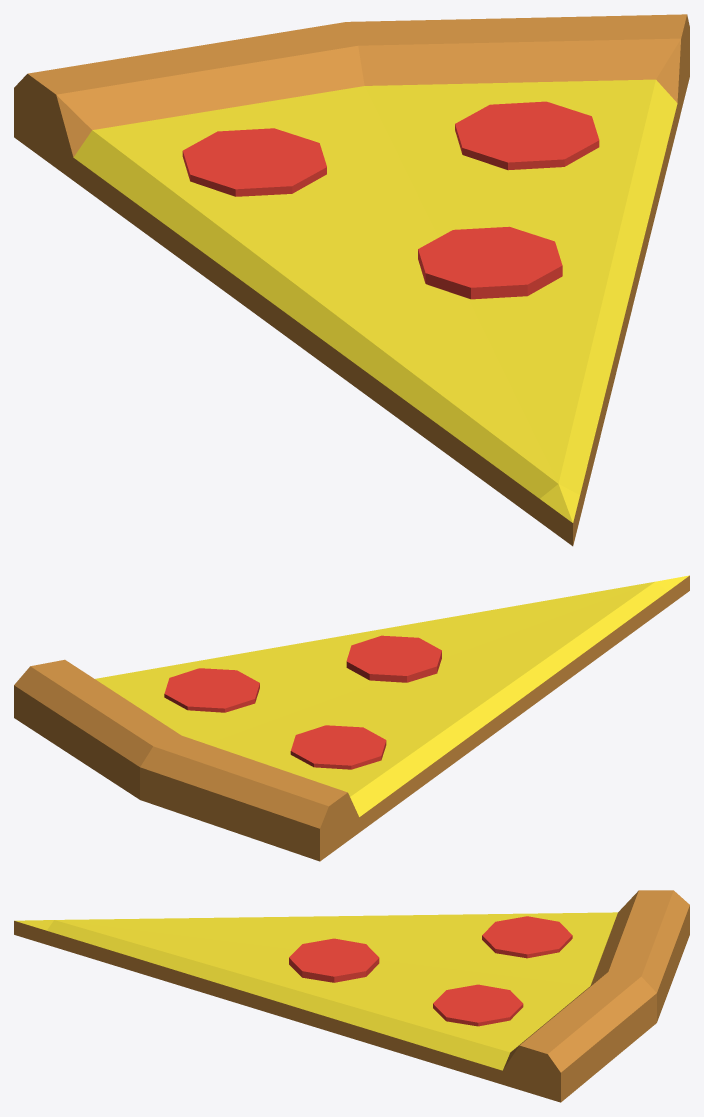
The model's file is pizza.glb.
3 views of the same model, one above another, from view 1: azimuth 30°, elevation 25°; view 2: azimuth 150°, elevation 25°; view 3: azimuth 270°, elevation 25° (orthographic). The views are drawn at different scales.
Parts seen in each view (by area): view 1: polySurface14, polySurface21; view 2: polySurface14, polySurface21; view 3: polySurface14, polySurface21.
Part boxes in pixels (x1,y1,x2,y2): polySurface14: (14,14,689,546); polySurface21: (182,128,326,196); polySurface14: (14,575,689,861); polySurface21: (290,725,386,769); polySurface14: (14,890,689,1102); polySurface21: (482,916,572,958).
Bounding box in the file's own units: 0.3949 × 0.0488 × 0.6719.
